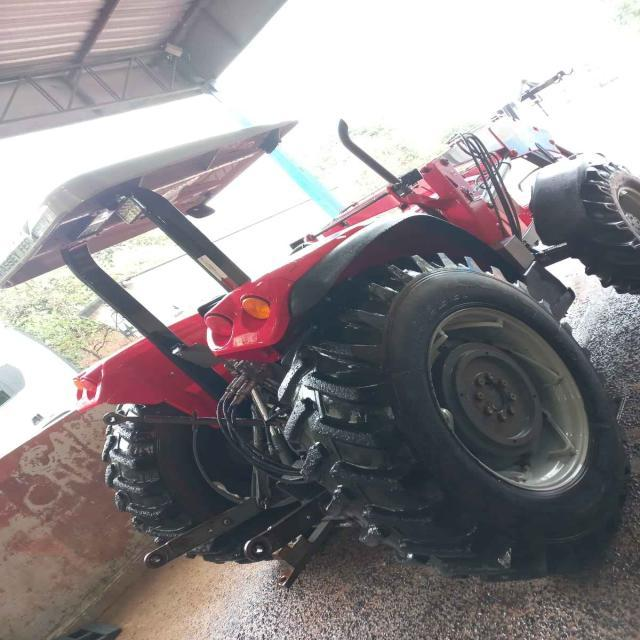Tratores - v5 YOLO V8L 2024-11-13: (2, 111, 638, 583)
